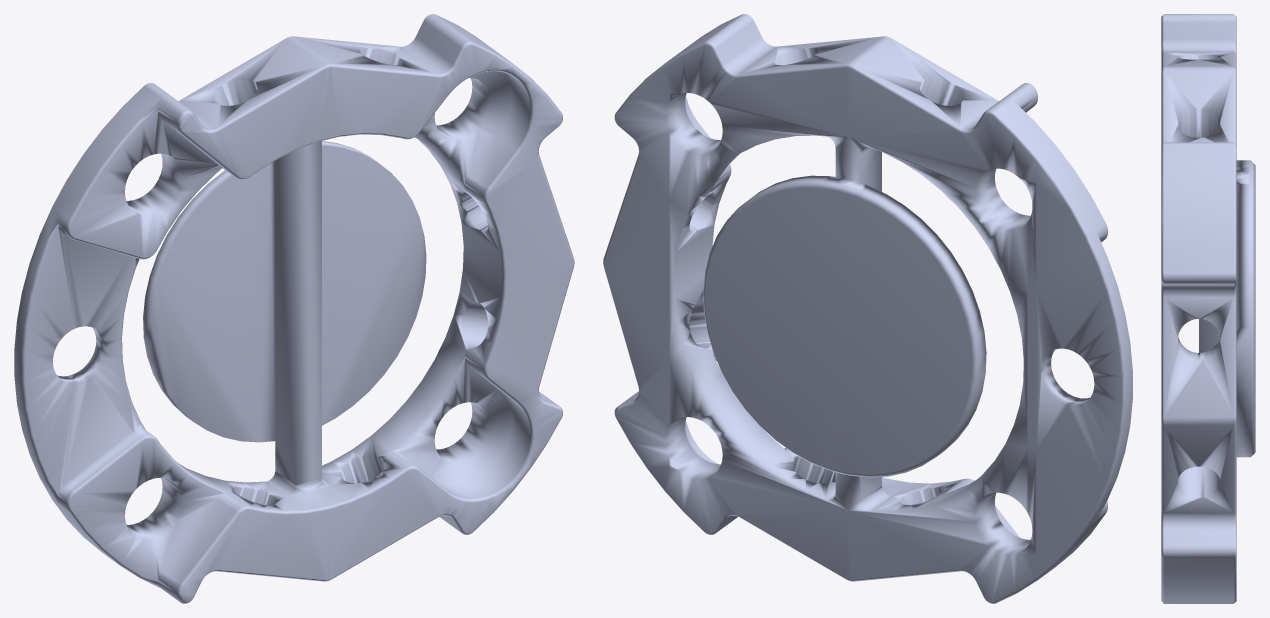
File: left_flange_B_cad1ee.glb
3 renders of one model, left to right at view 1: azimuth 30°, elevation 25°; view 2: azimuth 150°, elevation 25°; view 3: azimuth 270°, elevation 25°, orthographic. The views are drawn at different scales.
Parts seen in each view (by area): view 1: flange_B_0; view 2: flange_B_0; view 3: flange_B_0.
Boxes of the visible parts, left/top/right/bottom form: flange_B_0: left=14, top=14, right=574, bottom=603; flange_B_0: left=603, top=14, right=1132, bottom=603; flange_B_0: left=1161, top=14, right=1255, bottom=603.
Size of the model in its own units: 0.0597 by 0.0564 by 0.01.
